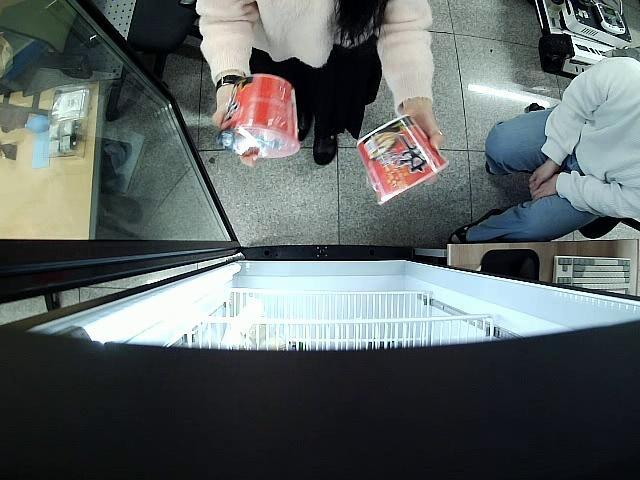01_ShinRamen_L: (356, 114, 451, 206), (218, 76, 300, 160)
